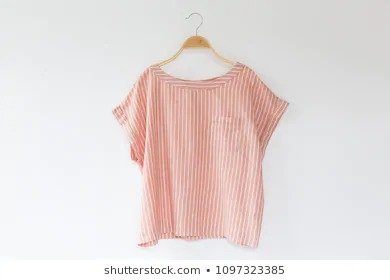C_short blouse: (111, 62, 299, 247)
